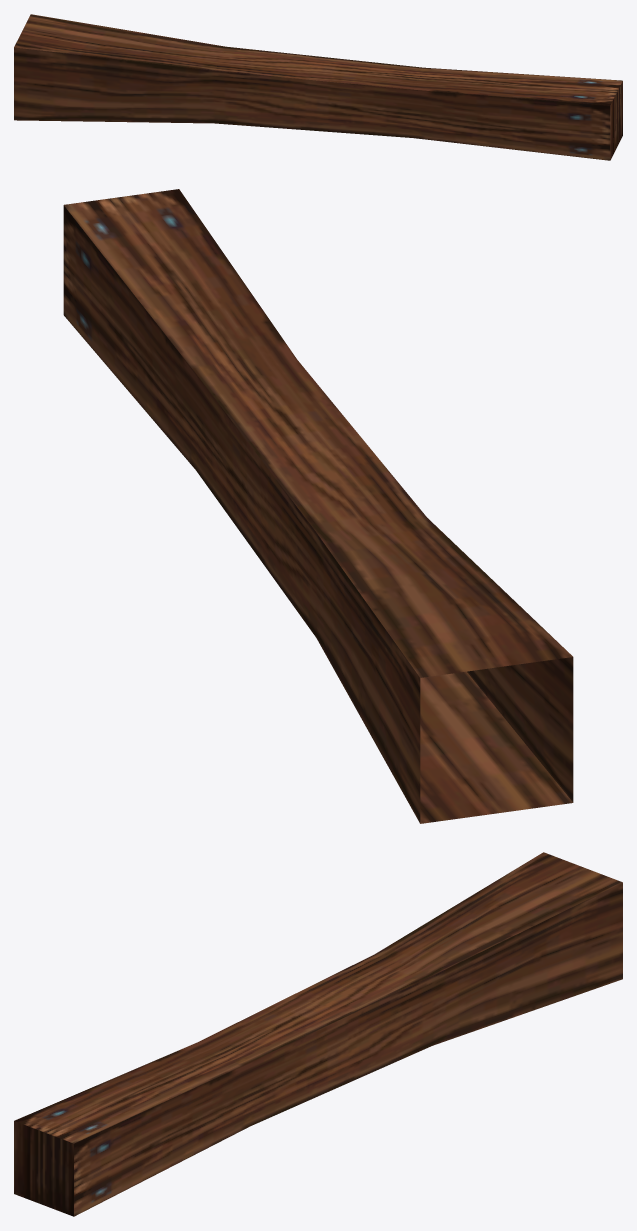
File: OVERHILL_A_01_POST34.fbx
The picture shows the model from 3 angles, top to bottom: view 1: azimuth 30°, elevation 25°; view 2: azimuth 150°, elevation 25°; view 3: azimuth 270°, elevation 25°; orthographic projection. The views are drawn at different scales.
Parts seen in each view (by area): view 1: OVERHILL_A_01_POST34; view 2: OVERHILL_A_01_POST34; view 3: OVERHILL_A_01_POST34.
Part boxes in pixels (<box>): OVERHILL_A_01_POST34: <box>14,14,622,160</box>; OVERHILL_A_01_POST34: <box>63,189,573,823</box>; OVERHILL_A_01_POST34: <box>14,852,622,1216</box>.
Bounding box in the file's own units: 13782 × 2225 × 12684.
Materials: 1 (1 with a texture image).
